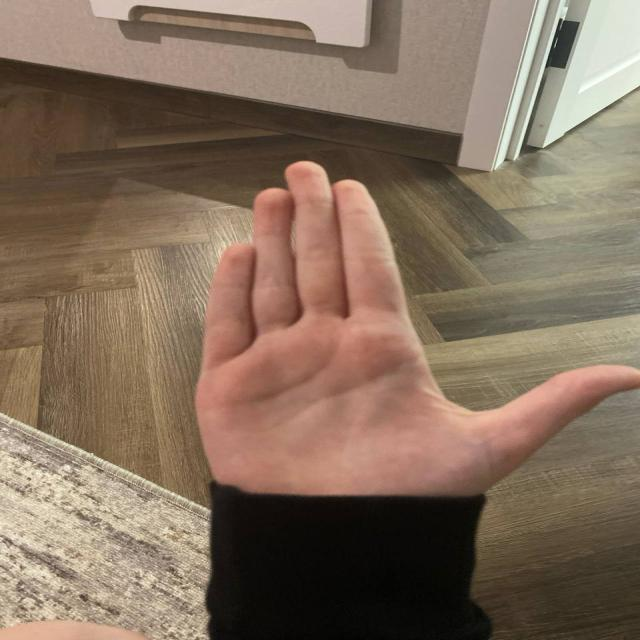v: (200, 154, 638, 474)
